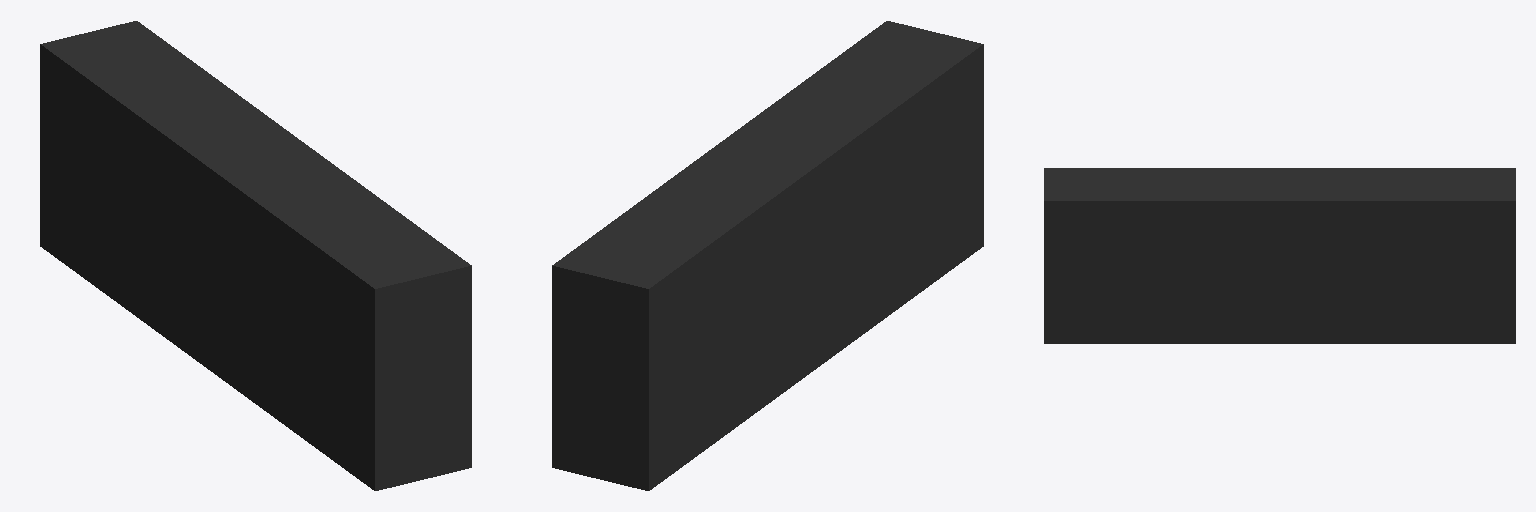
URDF robot description (wall):
<robot name="wall">
  <link name="baseLink">
   
    <inertial>
      <origin rpy="0 0 0" xyz="0 0 0" />
       <mass value="1000.0" />
       <inertia ixx="0" ixy="0" ixz="0" iyy="0" iyz="0" izz="0" />
    </inertial>
    <visual>
      <origin rpy="0 0 0" xyz="0 0 0" />
      <geometry>
			  <box size="1 6 2" />
      </geometry>
       <material name="grey">
        <color rgba="0.24 0.24 0.24 1" />
      </material>
    </visual>
    <collision>
      <origin rpy="0 0 0" xyz="0 0 0" />
      <geometry>
	 	      <box size="1 6 2" />
      </geometry>
    </collision>
  </link>
</robot>

--- Facts derived from the render (not from the file) ---
The picture shows the robot from 3 angles, left to right: view 1: azimuth 30°, elevation 25°; view 2: azimuth 150°, elevation 25°; view 3: azimuth 270°, elevation 25°; orthographic projection.
Robot: wall — 1 links, 0 joints (none); root link baseLink; default pose: all joints at 0.
Visible links, largest first — view 1: baseLink; view 2: baseLink; view 3: baseLink.
Link boxes in pixels (<box>): baseLink: <box>40,21,471,490</box>; baseLink: <box>552,21,983,490</box>; baseLink: <box>1044,168,1515,343</box>.
Size in the robot's own frame: 1 by 6 by 2 metres.
Geometry: primitives only (box / cylinder / sphere), no mesh files.